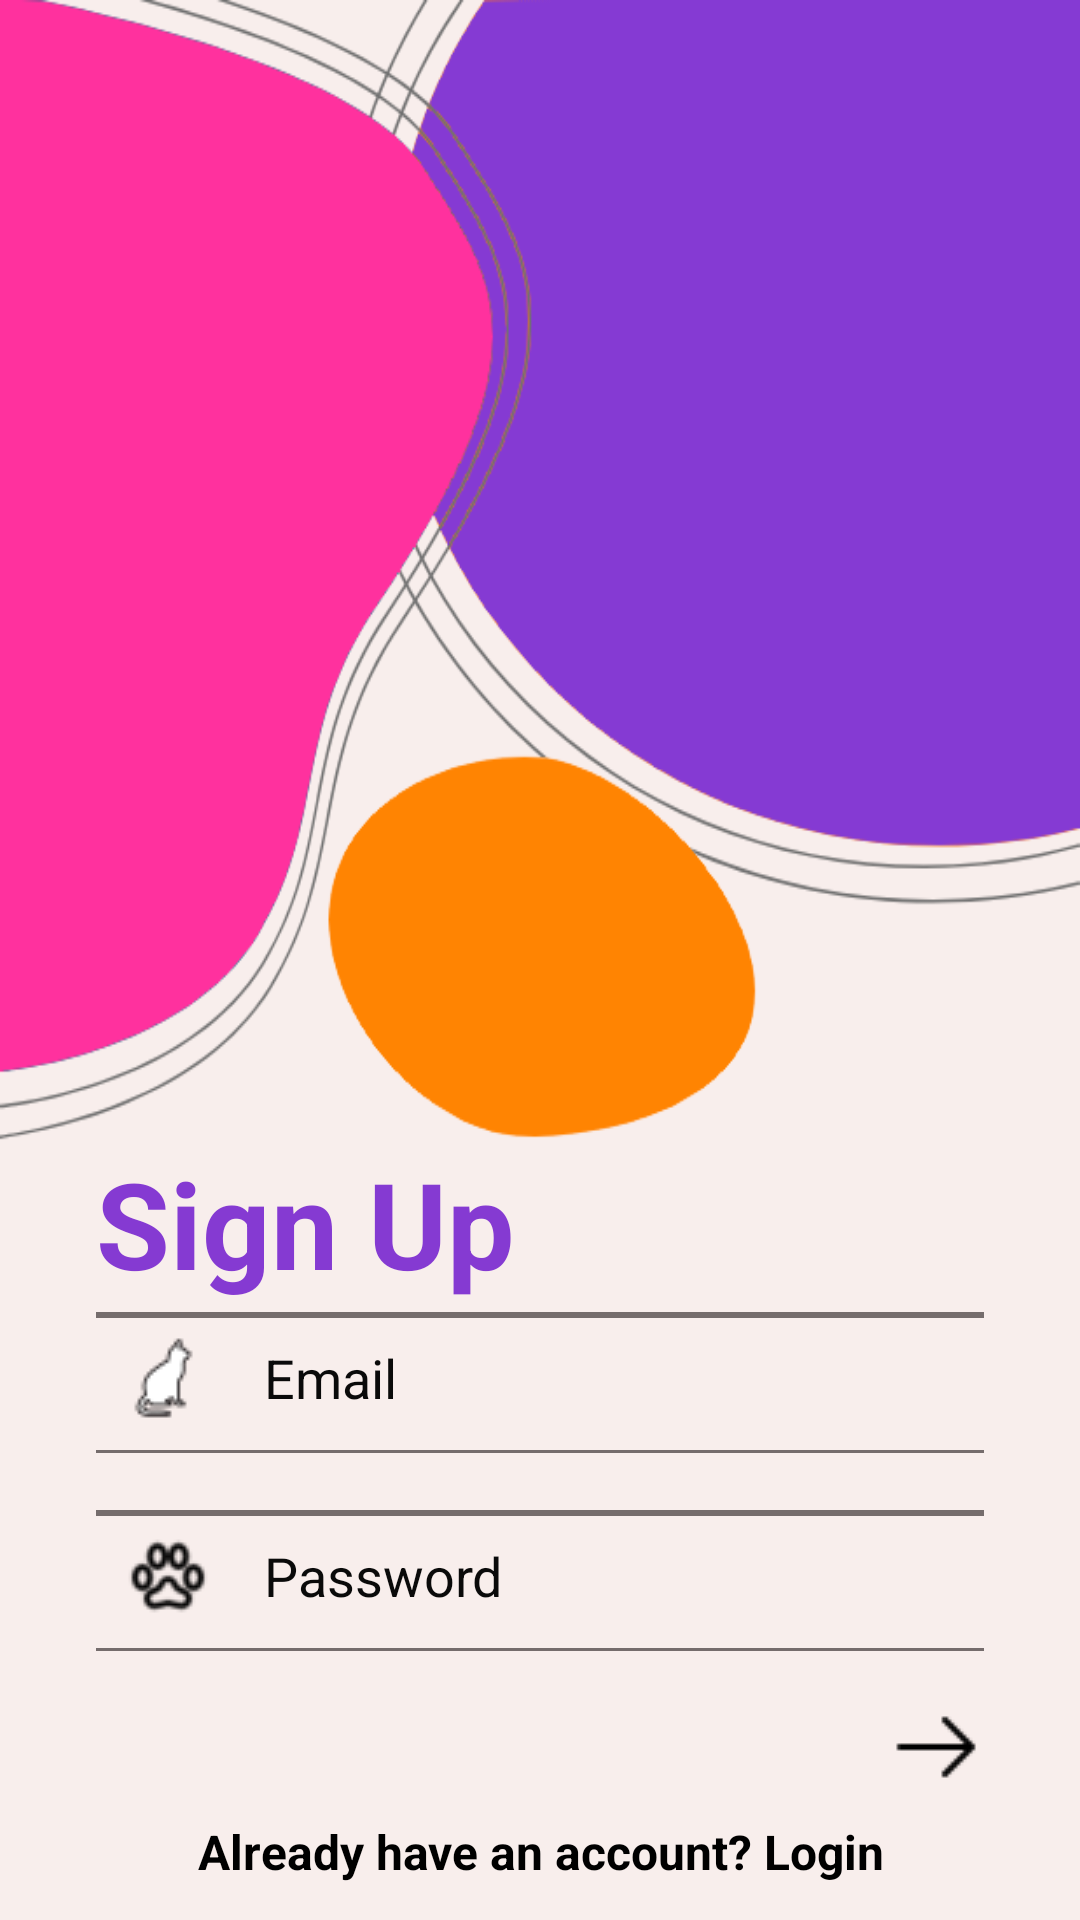

Icon bounding boxes for this 1080x1920 phone screenshot, format (x1, y1, x2, y2):
faviconarrow: (896, 1716, 976, 1778)
